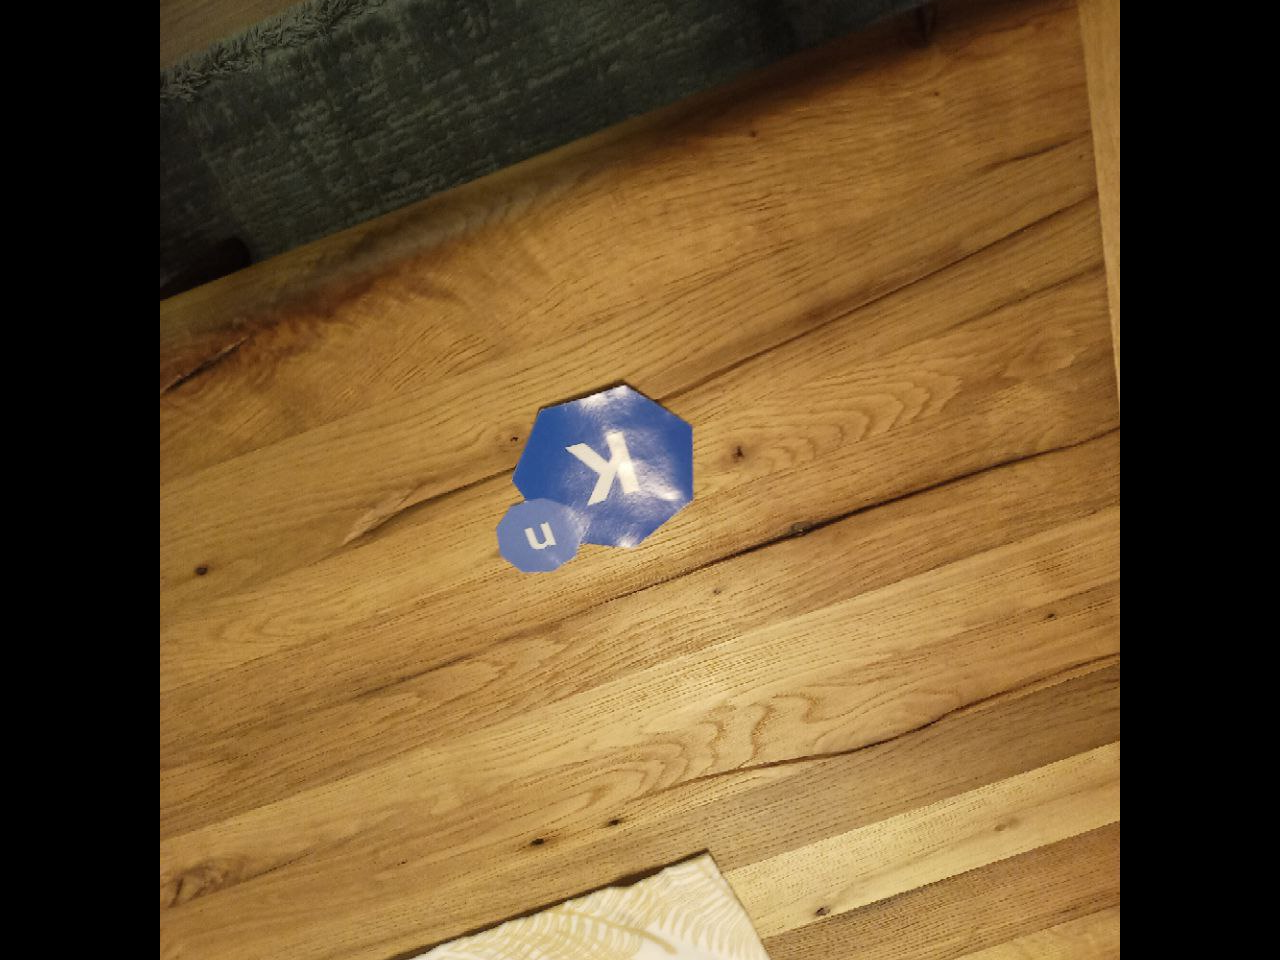knative: (497, 381, 697, 573)
